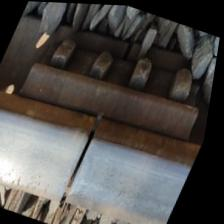person: (9, 92, 156, 224)
